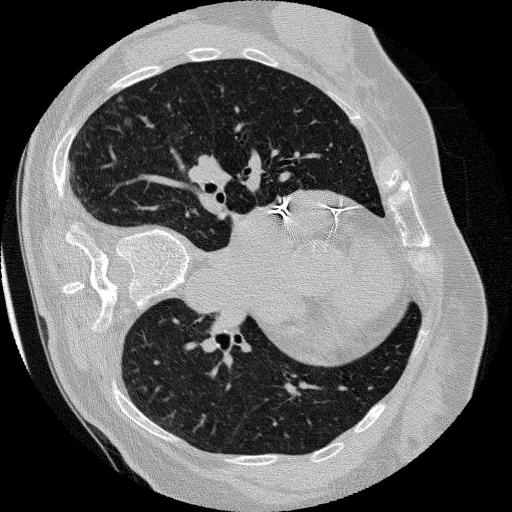nodule: (122, 115, 136, 129)
